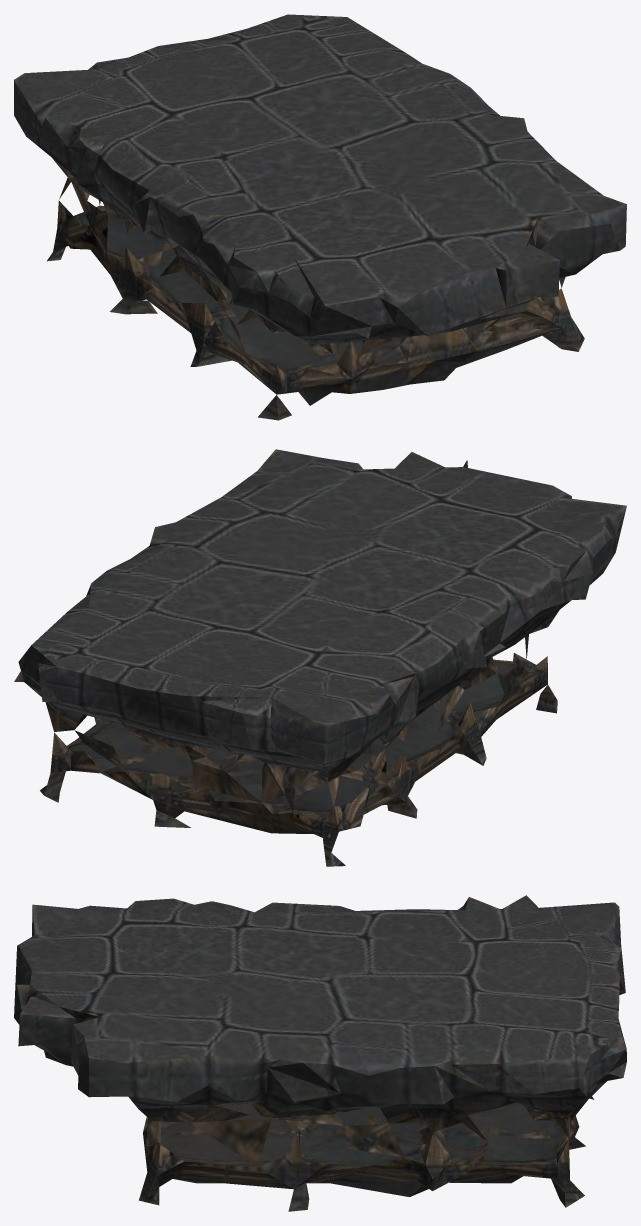
Rendered from stunt-landing-deck.lod.glb.
3 renders of one model, top to bottom at view 1: azimuth 30°, elevation 25°; view 2: azimuth 150°, elevation 25°; view 3: azimuth 270°, elevation 25°, orthographic. The views are drawn at different scales.
Parts seen in each view (by area): view 1: output_unwrapped; view 2: output_unwrapped; view 3: output_unwrapped.
Part boxes in pixels (left/top/right/bottom): output_unwrapped: left=14, top=14, right=626, bottom=420; output_unwrapped: left=14, top=449, right=626, bottom=866; output_unwrapped: left=14, top=895, right=626, bottom=1211.
Size of the model in its own units: 1.24 by 0.574 by 1.88.
1 material, 1 textured.
